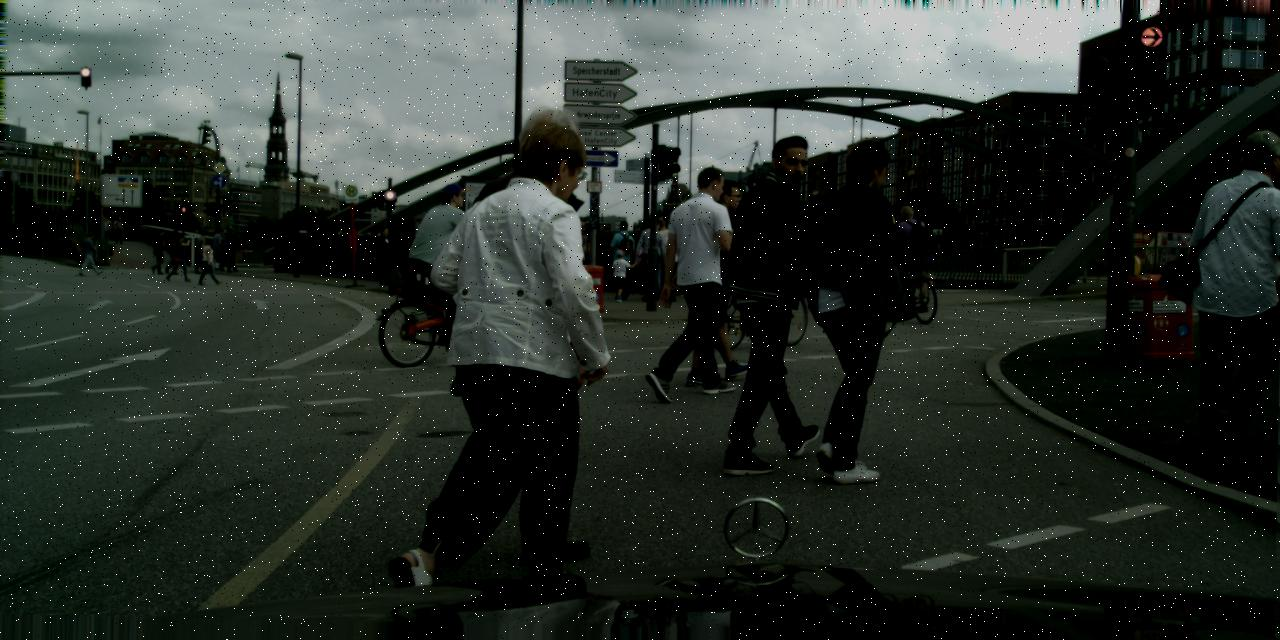ped: (420, 123, 612, 592), (428, 103, 616, 562), (781, 137, 920, 474), (723, 134, 858, 463), (1176, 129, 1279, 458), (653, 166, 748, 397), (682, 177, 765, 381), (417, 182, 476, 327), (890, 206, 926, 290), (636, 218, 669, 300), (647, 219, 679, 300), (607, 220, 638, 298), (566, 220, 595, 291), (372, 226, 396, 286), (609, 250, 630, 302), (200, 238, 219, 284), (170, 234, 188, 282), (150, 228, 168, 274), (82, 231, 100, 275), (165, 228, 182, 274), (224, 227, 241, 272), (195, 230, 211, 271), (330, 228, 346, 268), (211, 229, 227, 269), (361, 228, 375, 266), (370, 231, 384, 268), (114, 216, 124, 242), (59, 217, 67, 236), (111, 220, 118, 239), (105, 223, 111, 238)
